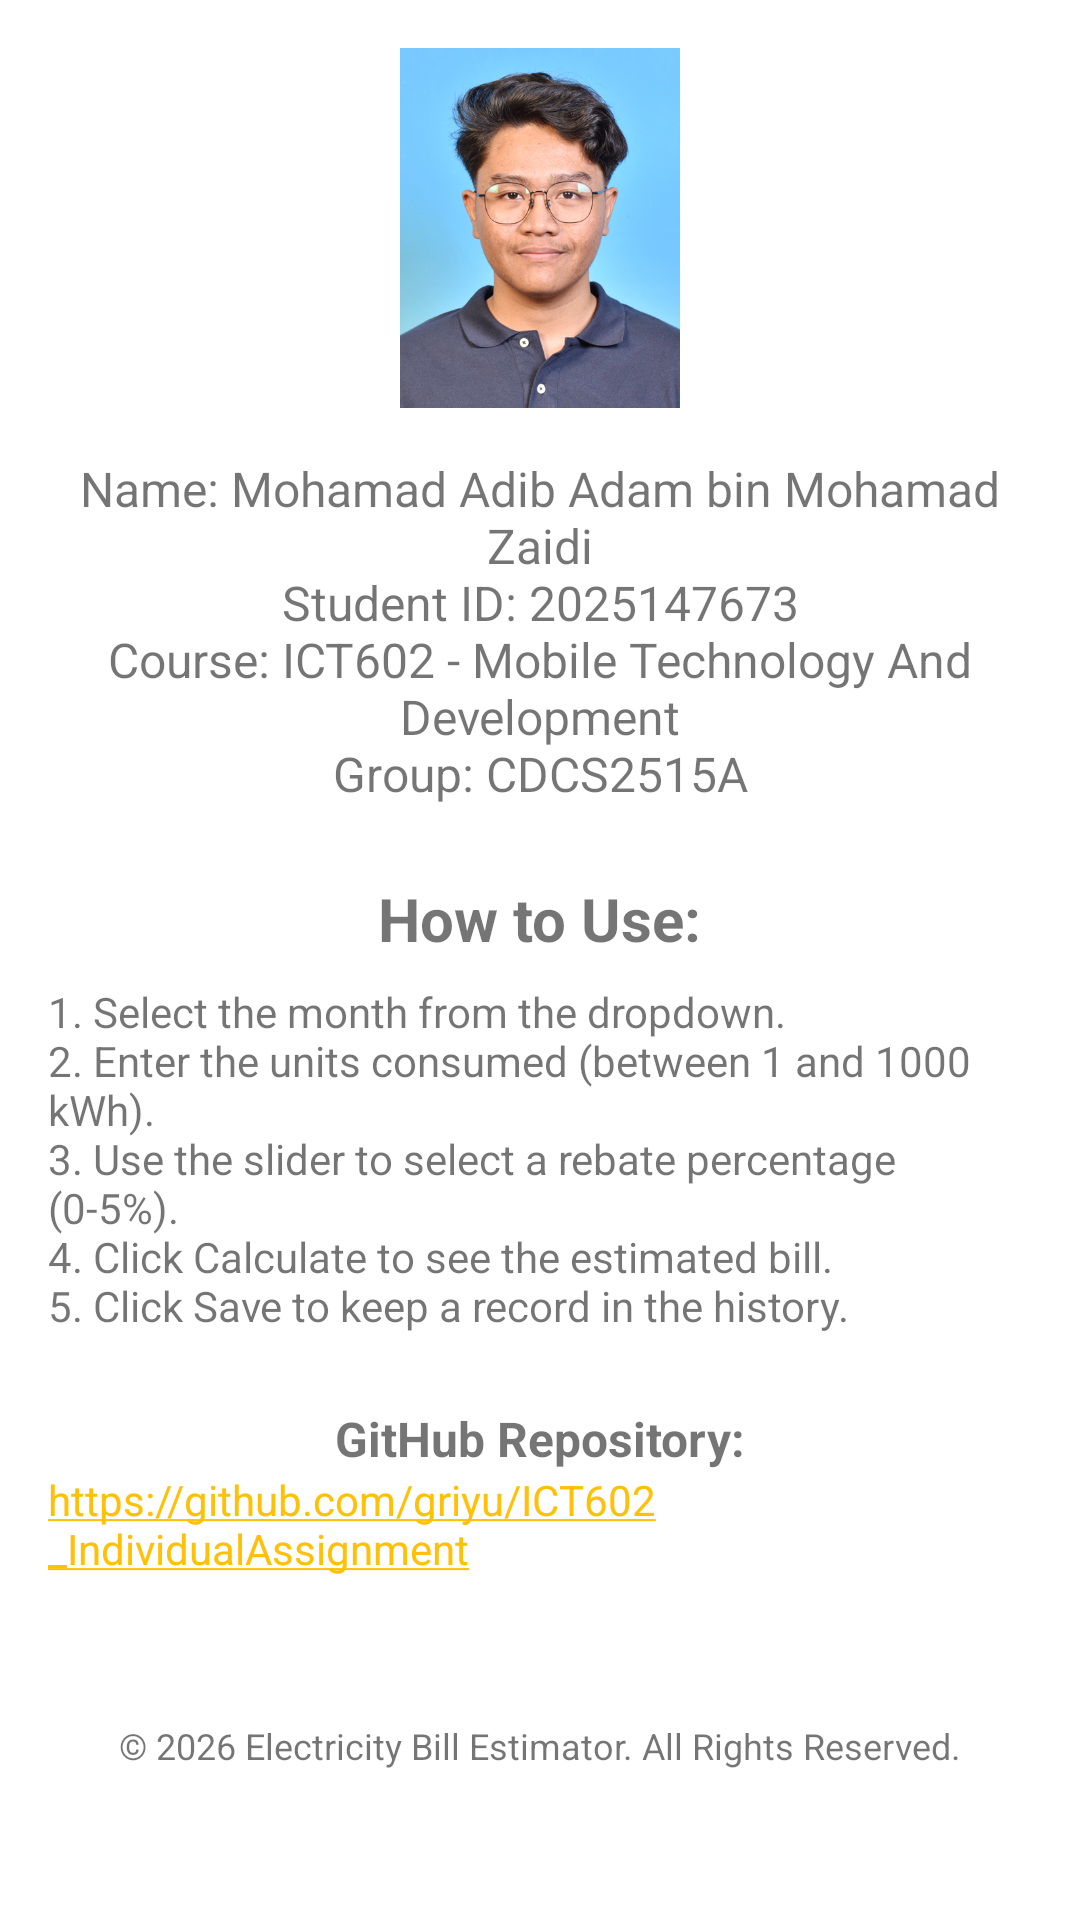

Screen size 1080 x 1920. Icon name, then its box in pixels as bbox=[x1, y1, x2, y2]:
Profile Picture: bbox=[400, 48, 680, 408]
